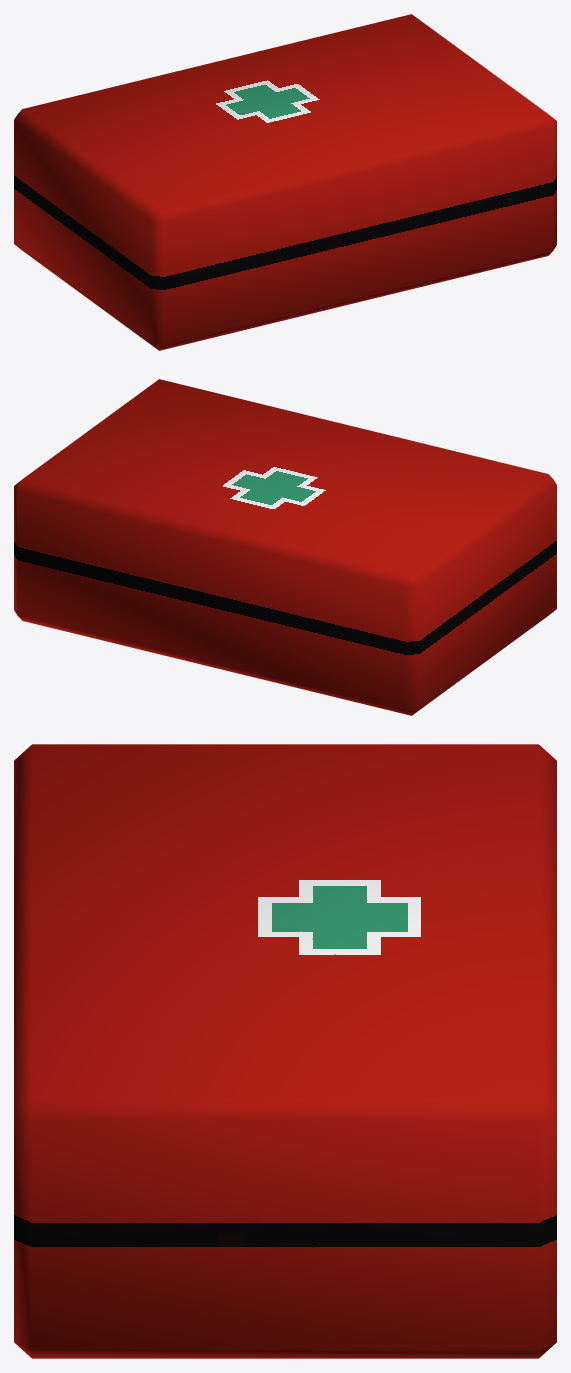
The model's file is medkit.glb.
The picture shows the model from 3 angles, top to bottom: view 1: azimuth 30°, elevation 25°; view 2: azimuth 150°, elevation 25°; view 3: azimuth 270°, elevation 25°; orthographic projection. The views are drawn at different scales.
Parts seen in each view (by area): view 1: medkit; view 2: medkit; view 3: medkit.
Boxes of the visible parts, bbox=[...] form: medkit: bbox=[14, 14, 556, 350]; medkit: bbox=[14, 379, 556, 715]; medkit: bbox=[14, 744, 556, 1358].
Size of the model in its own units: 0.24 by 0.08 by 0.15.
Materials: 1 (1 with a texture image).
